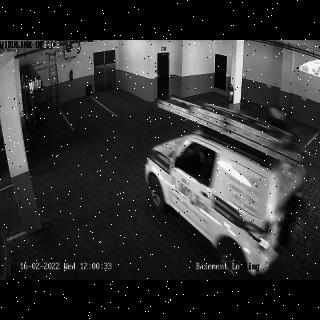car: (144, 126, 307, 276), (0, 230, 12, 280)
